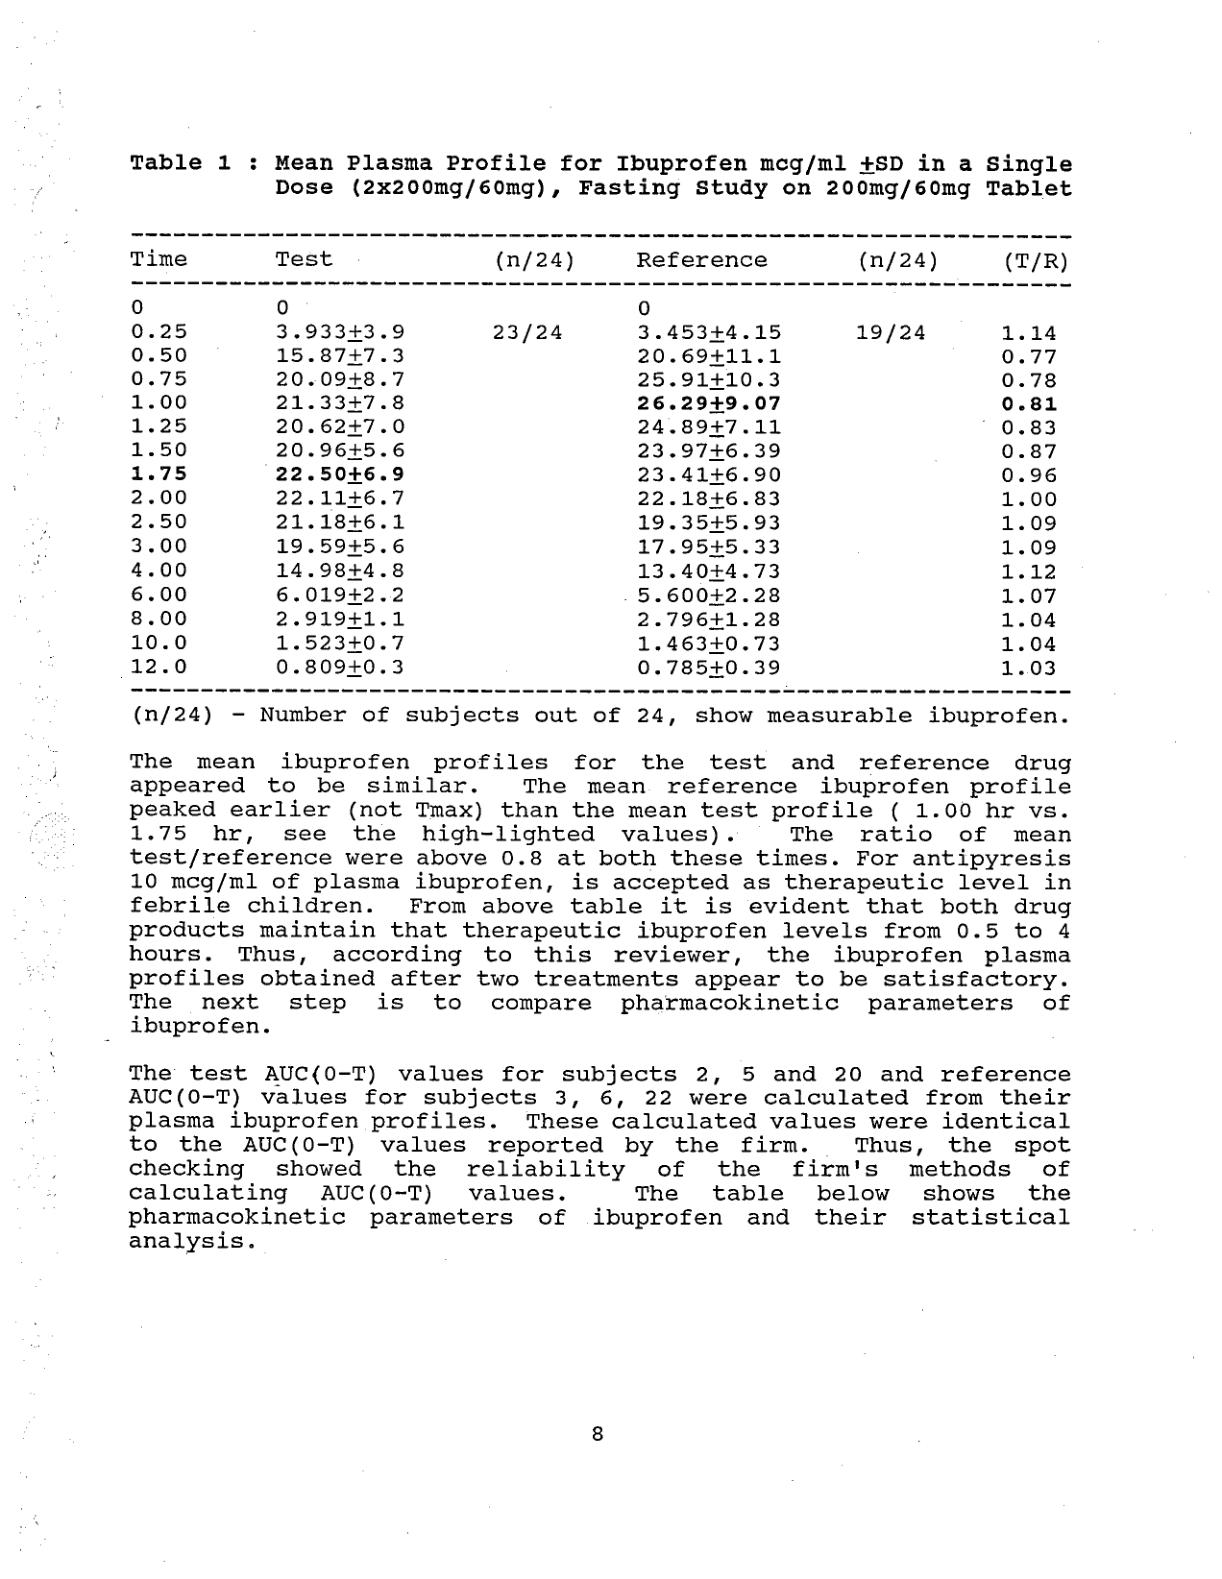partial_lined: (128, 229, 1078, 696)
